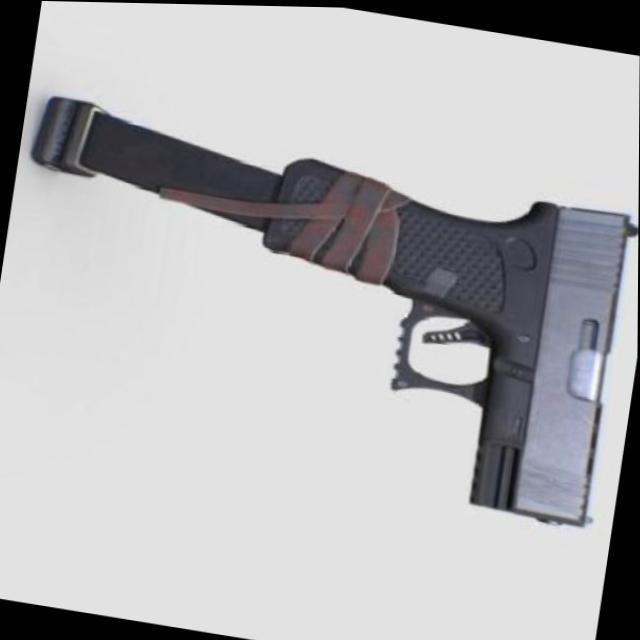weapon: (0, 89, 639, 528)
